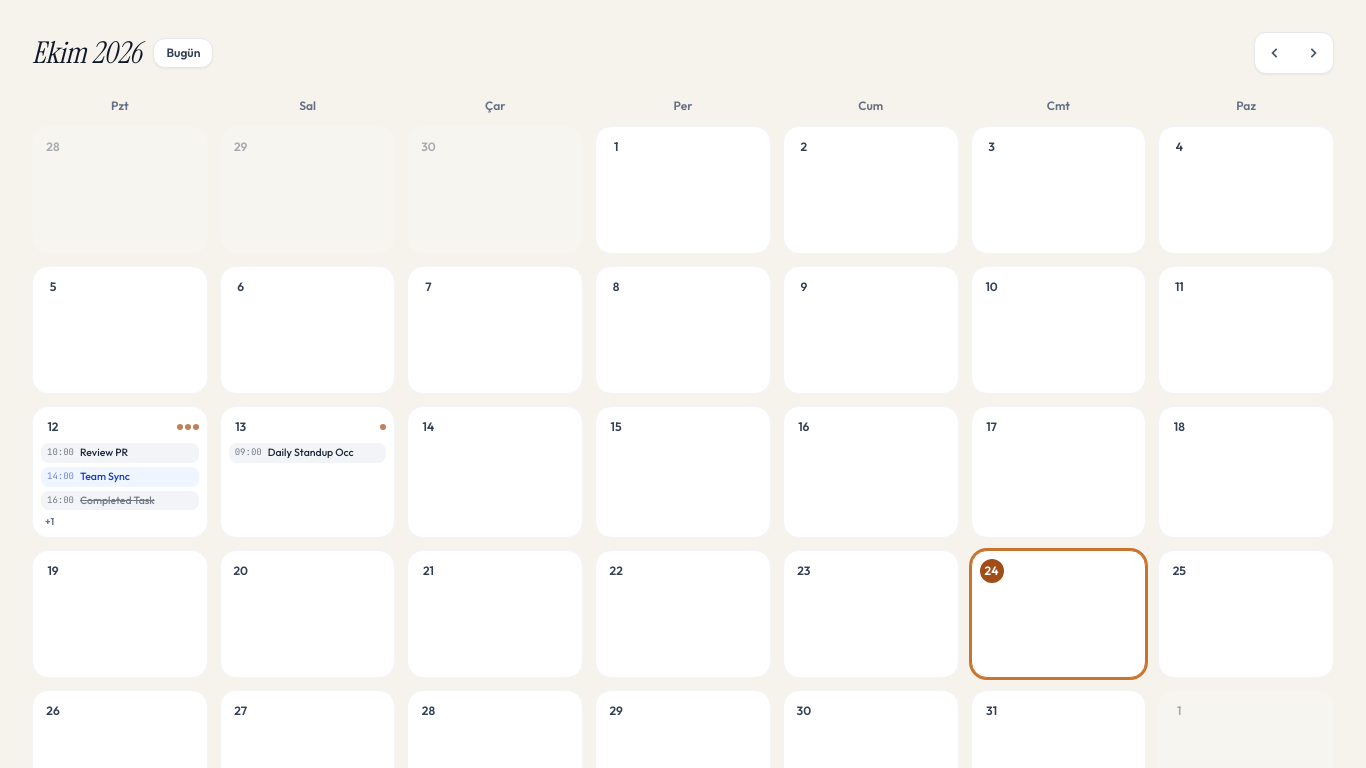
Test: MonthPage › passes item's Istanbul time as initialTime to ScheduleModal when opened from day panel
Click the cell with test id "cell-2026-10-12". click: {"x": 120, "y": 472}
box: 32,406 -> 208,538
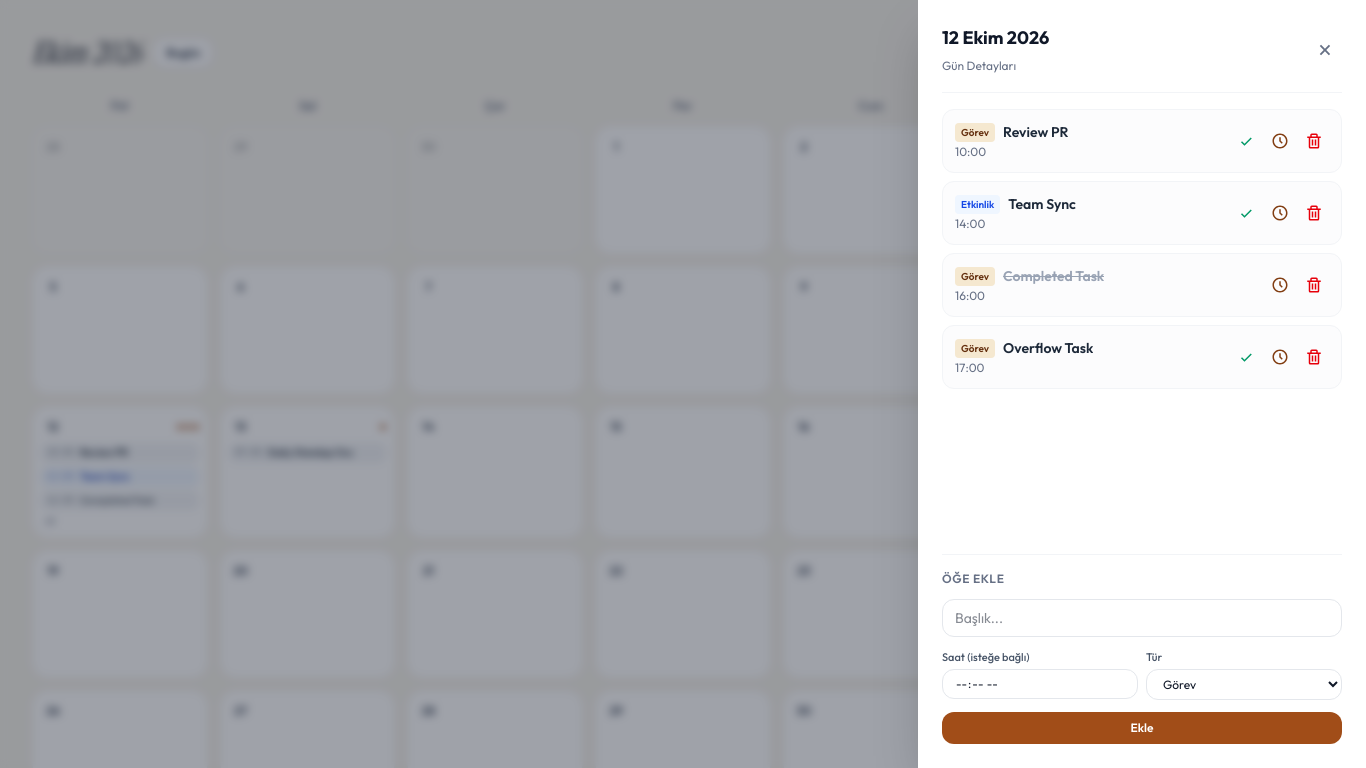
Expected: the element with test id "day-panel" is shown
Click the 1st button named "Zamanla". click: {"x": 1280, "y": 141}
box: 1265,126 -> 1295,156
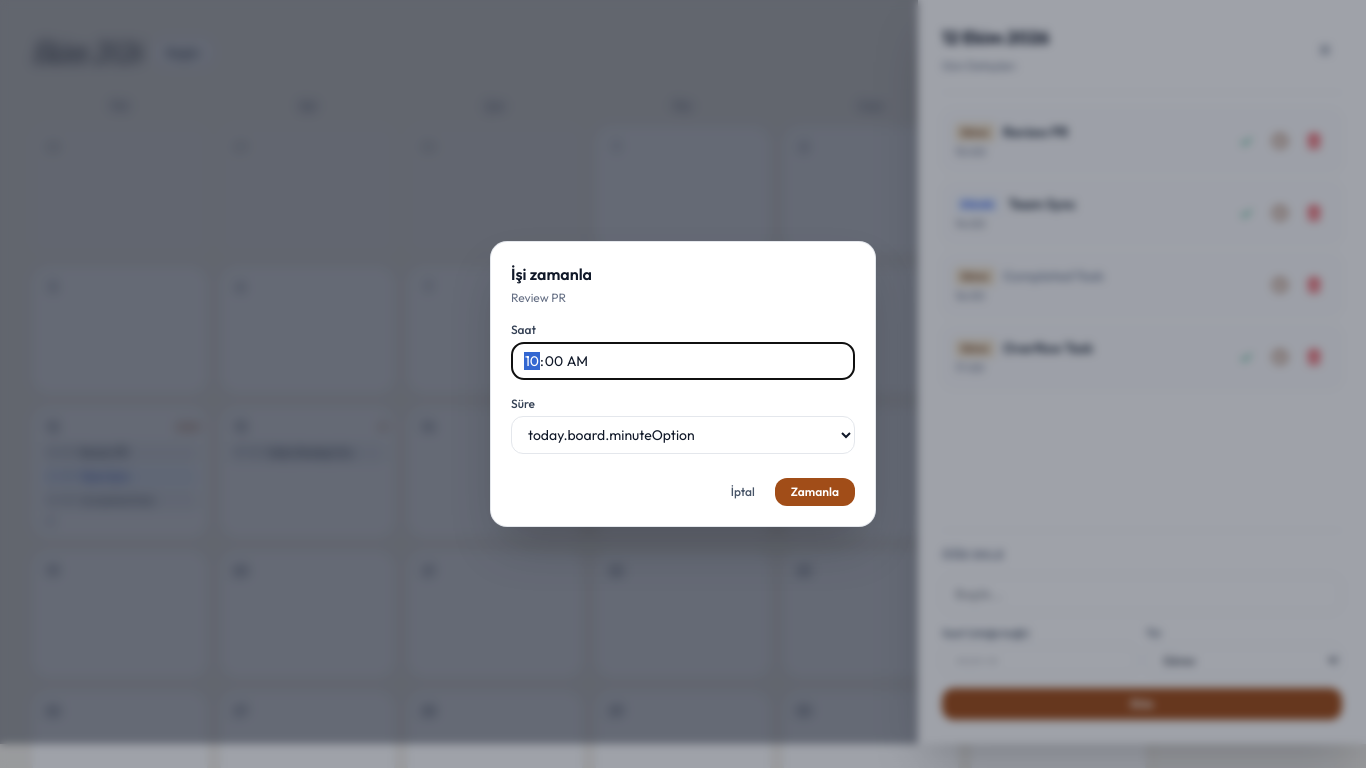
Expected: the time field labelled "Saat" holds "10:00", 511,342 -> 855,380
